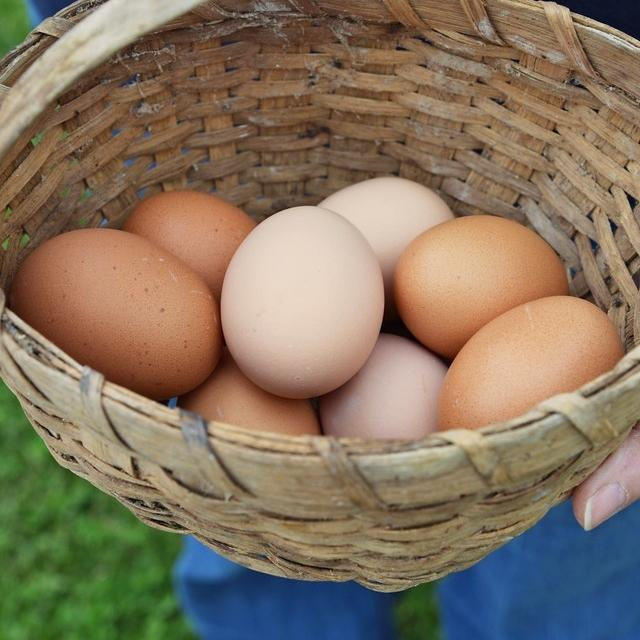egg: (8, 227, 221, 400), (219, 205, 385, 398), (436, 294, 624, 432), (393, 213, 569, 358), (316, 175, 455, 284), (122, 189, 257, 299), (319, 333, 448, 441), (177, 346, 320, 437)
